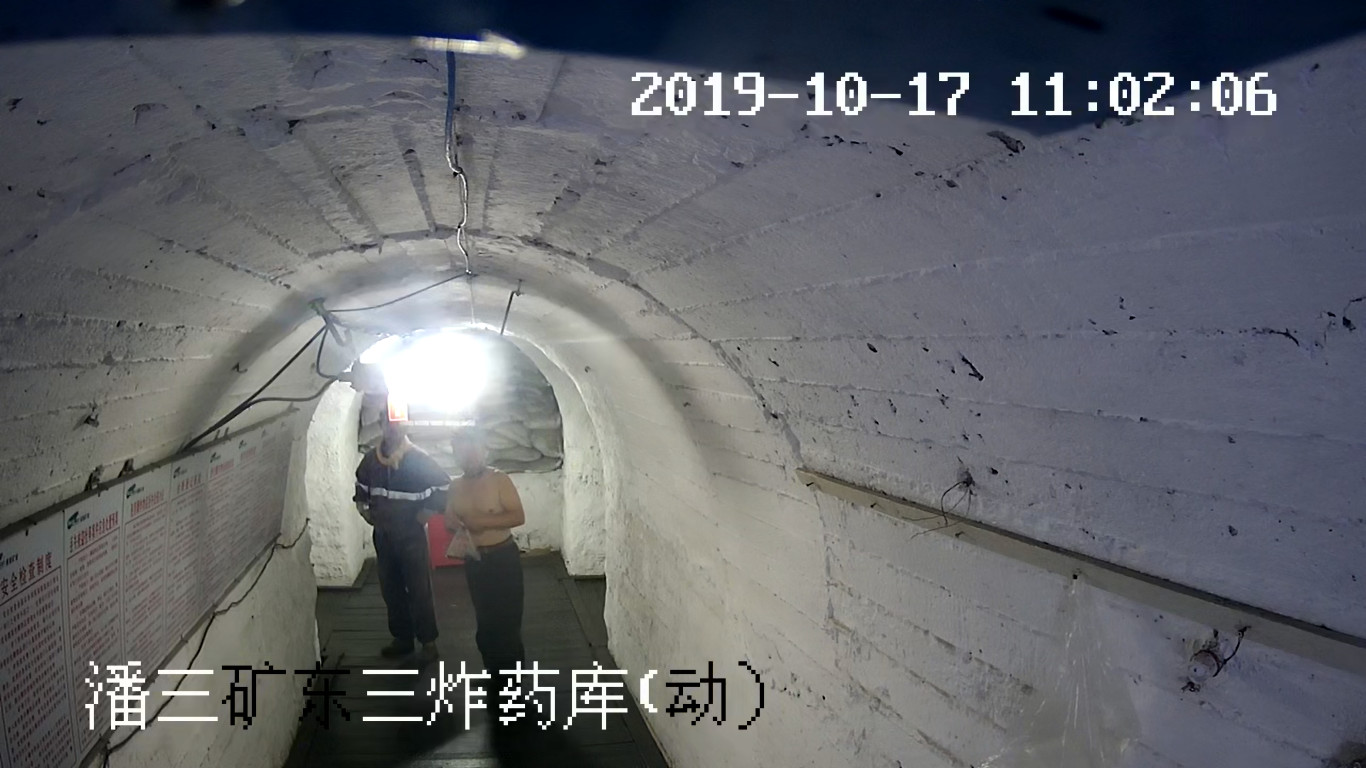helmet: (450, 417, 486, 450), (379, 398, 411, 425)
